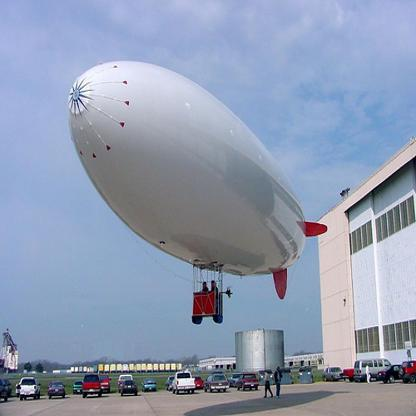Airship: (64, 60, 331, 328)
